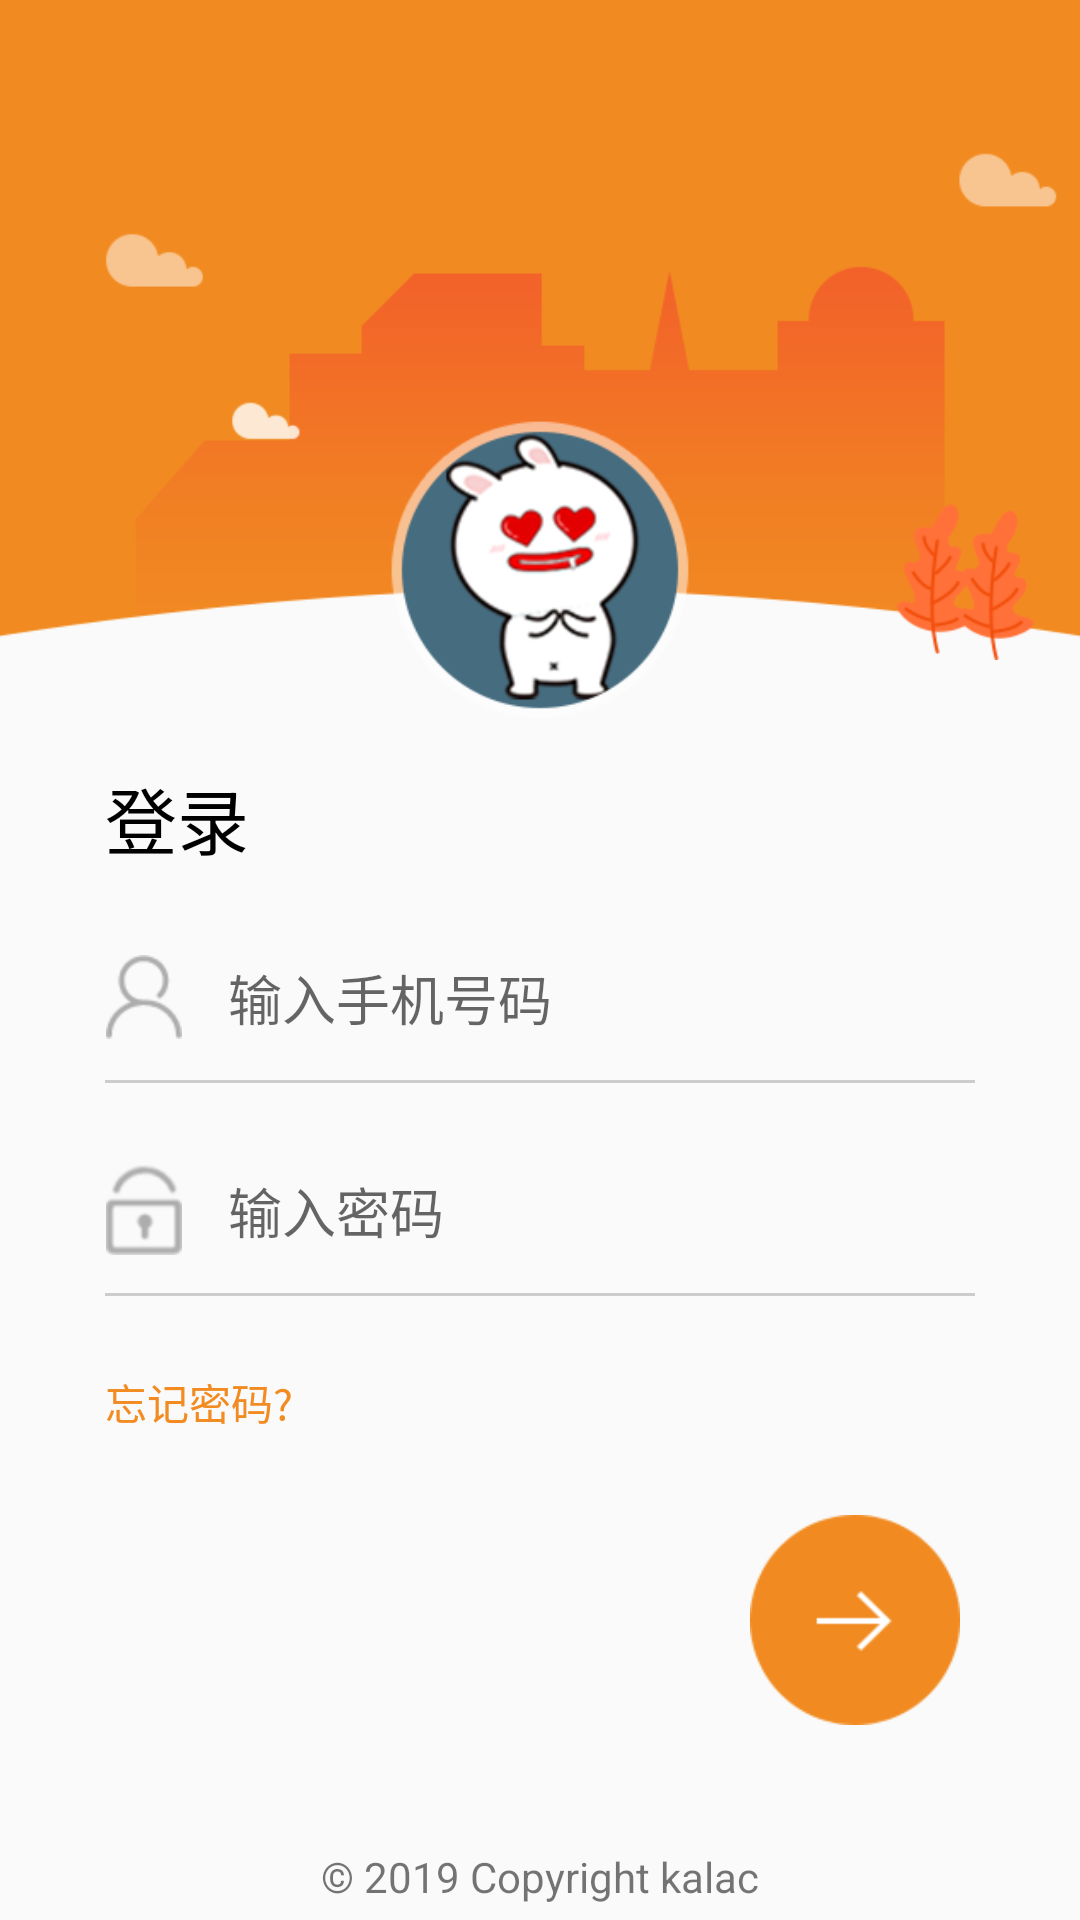

Screen size 1080 × 1920. Icon name, then its center in pixels as point (x, y):
login headicon: point (540, 570)
login loginbtn: point (855, 1620)
login pw: point (144, 1210)
login usericon: point (144, 997)
